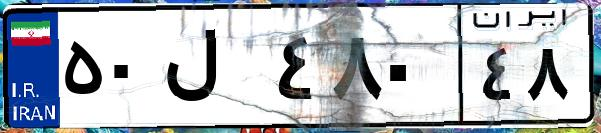0: (385, 28, 445, 110), (110, 28, 158, 98)
4: (270, 28, 330, 110), (475, 38, 525, 113)
5: (57, 26, 110, 100)
8: (330, 28, 385, 110), (525, 38, 570, 115)
ل: (158, 20, 270, 120)
